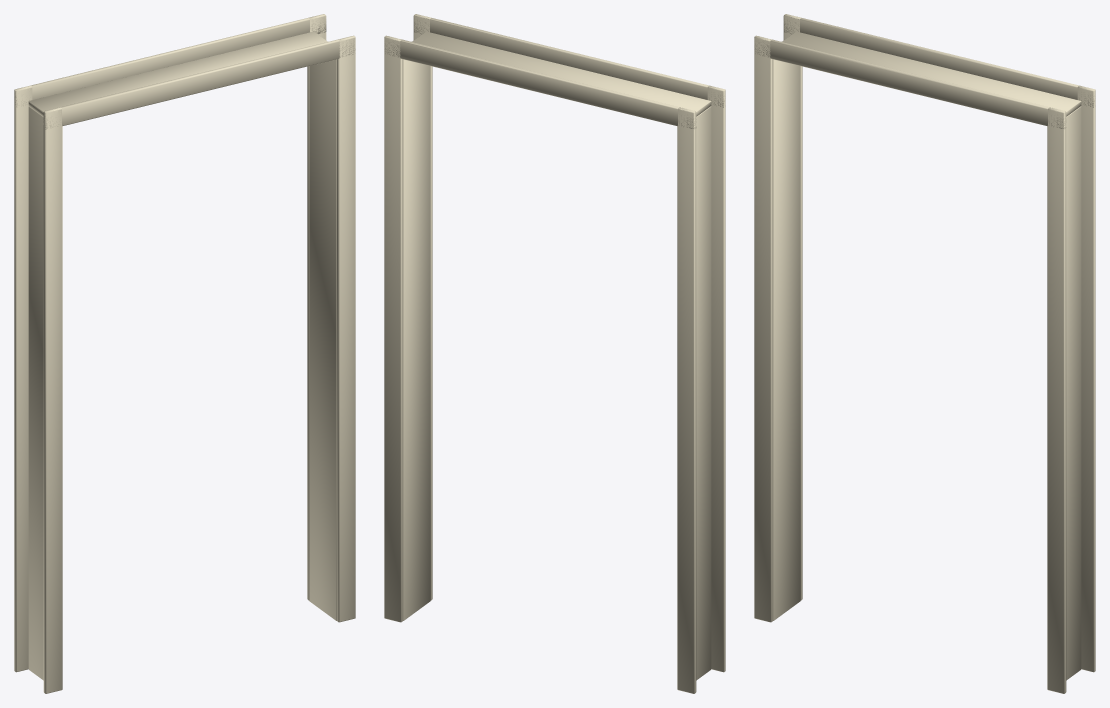
File: door_frame.glb
3 views of the same model, side by side, from view 1: azimuth 30°, elevation 25°; view 2: azimuth 150°, elevation 25°; view 3: azimuth 330°, elevation 25° (orthographic).
Parts seen in each view (by area): view 1: door_frame; view 2: door_frame; view 3: door_frame.
Boxes of the visible parts, <box> form: door_frame: <box>14,14,355,693</box>; door_frame: <box>384,14,725,693</box>; door_frame: <box>754,14,1095,693</box>.
Bounding box in the file's own units: 1.24 × 2.22 × 0.22.
